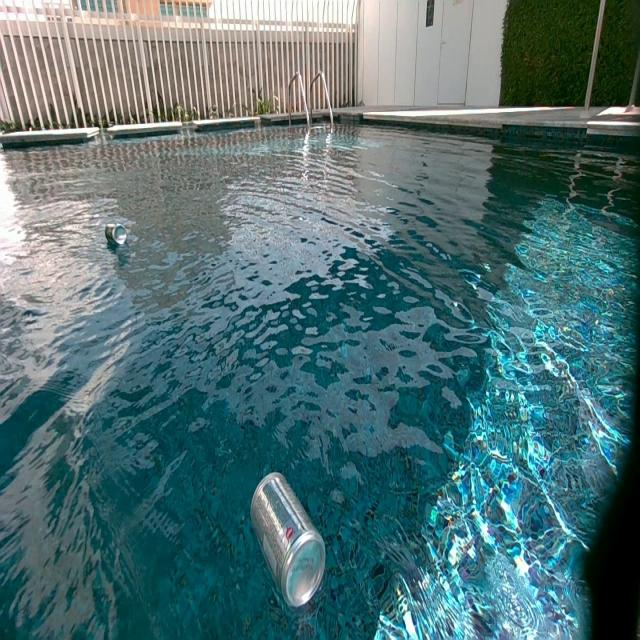Cans: (251, 474, 328, 615), (103, 221, 127, 247)
